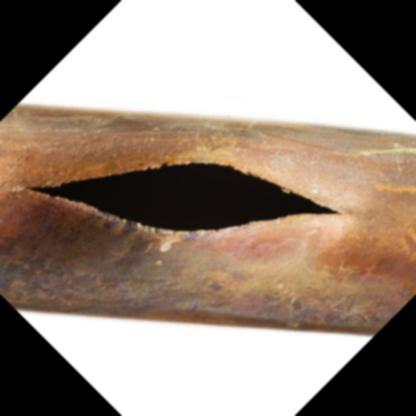burst: (20, 168, 346, 244)
